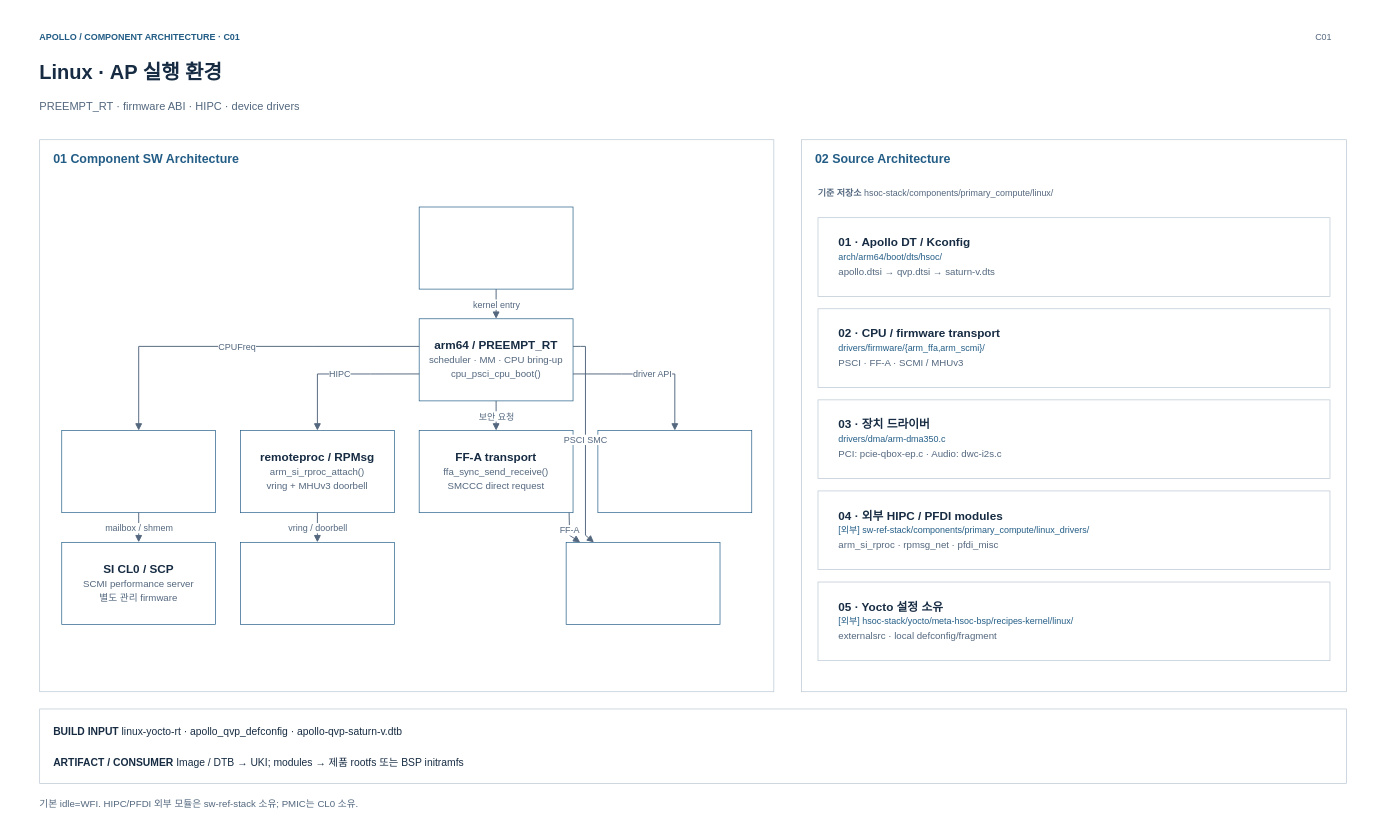
Image size: 1386x838. Some labels were removed from this diagram. The centre of each missing label's shape, as x and y in pixels:
CPUFreq / SCMI scmi_ cpufreq_ set_ target() perf_ ops->freq_ set(): the point at 138,471
DMA / PCI / Audio DMA-350 · QBox EPC DW I2S / DMAengine: the point at 674,471
SI CL1 / Zephyr OpenAMP · RPMsg endpoint 독립 부팅 후 Linux attach: the point at 317,583
TF-A / Secure world PSCI CPU_ ON · FF-A dispatch 별도 firmware 실행 영역: the point at 642,583
UKI / OS device tree Image + board DTB Apollo 주소·IRQ·CPU topology: the point at 495,247
